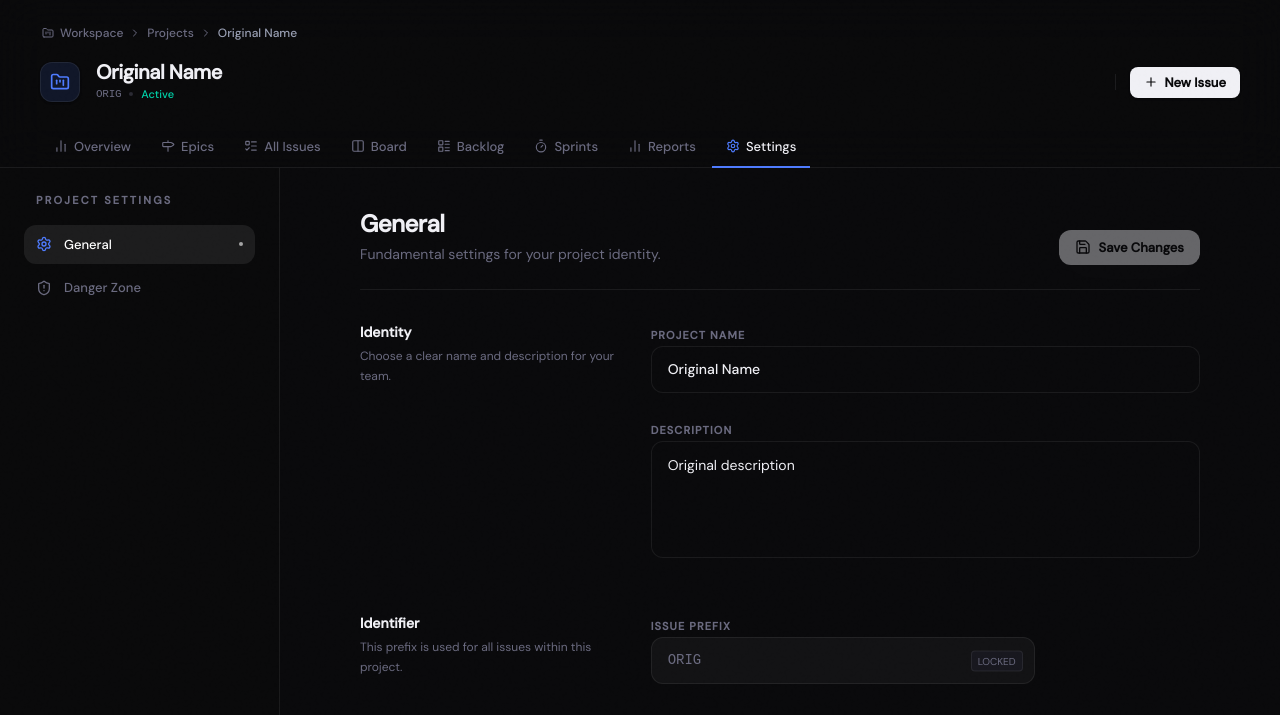
Scenario: ProjectSettingsPage general save (AUD-010 regression) › saves edited name and description via the API when Save Changes is clicked
Replace the text in the field labelled "Project Name" with "Renamed Project" at (925, 370), box [651,346,1200,393]
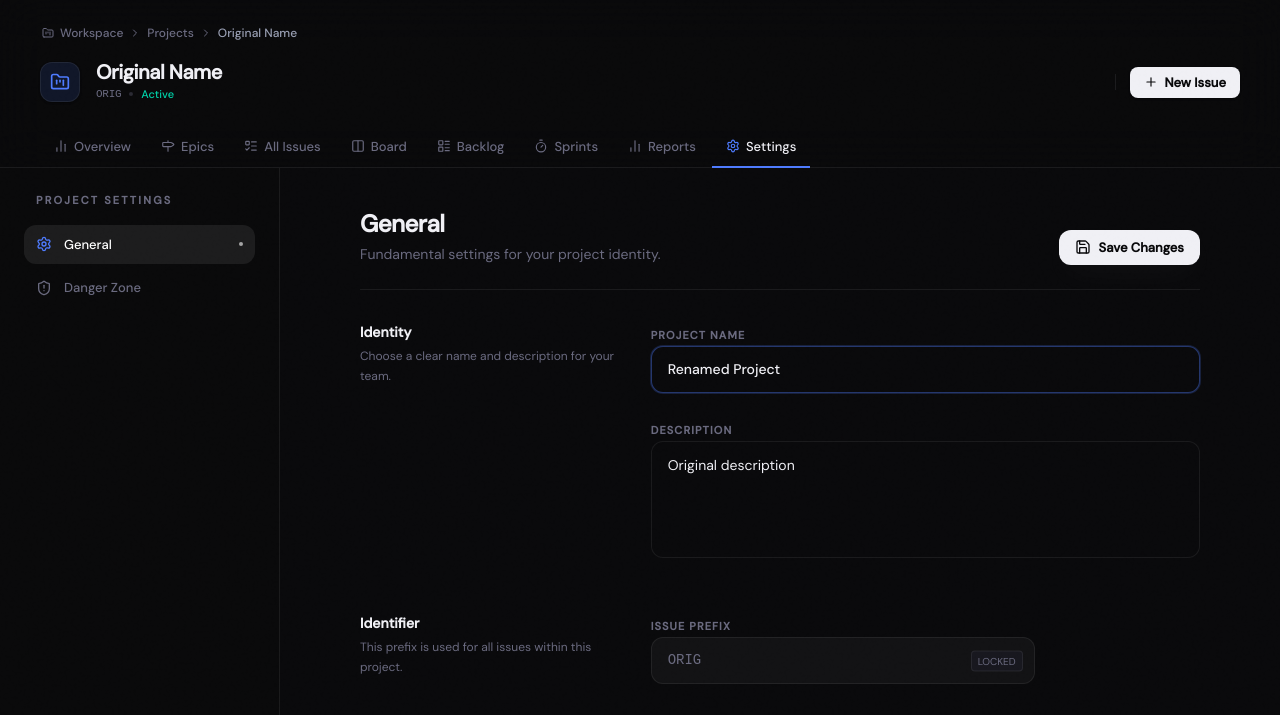
Replace the text in the text box labelled "Description" with "New description" at (925, 500), box [651,441,1200,558]
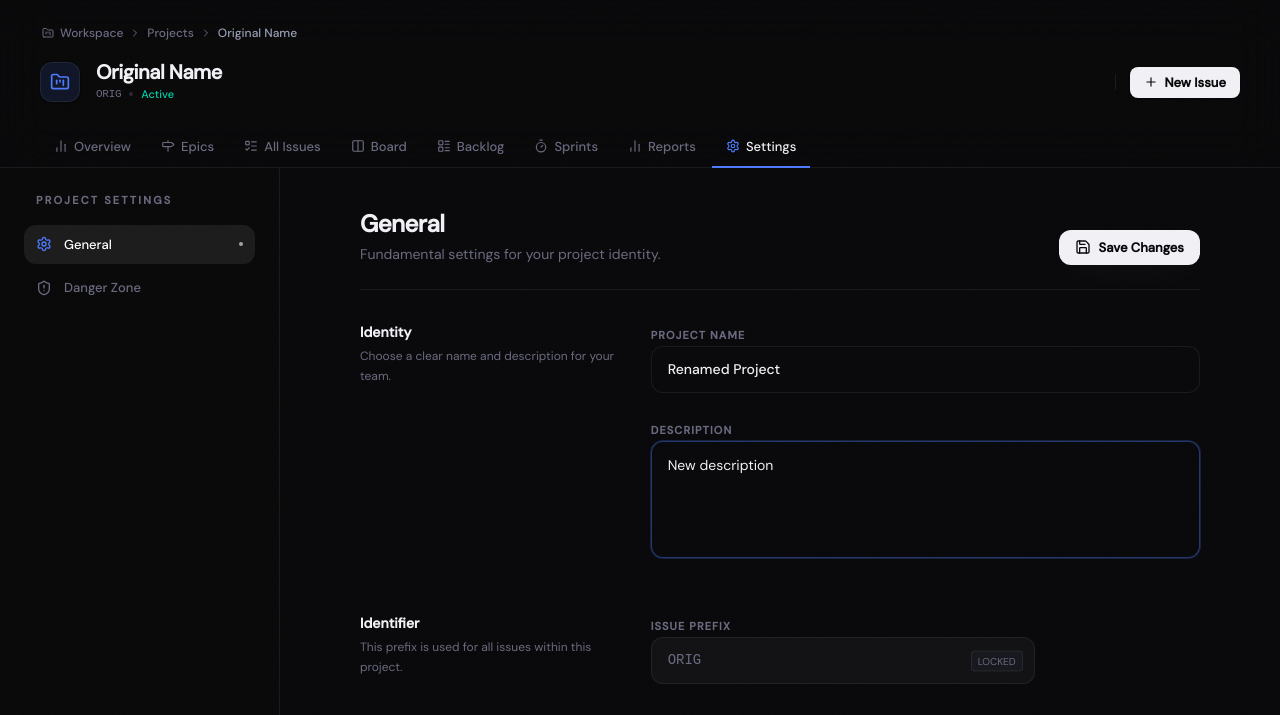
Expected: the button "Save Changes" is enabled
Click the button "Save Changes" at (1129, 247), box [1059,230,1200,265]
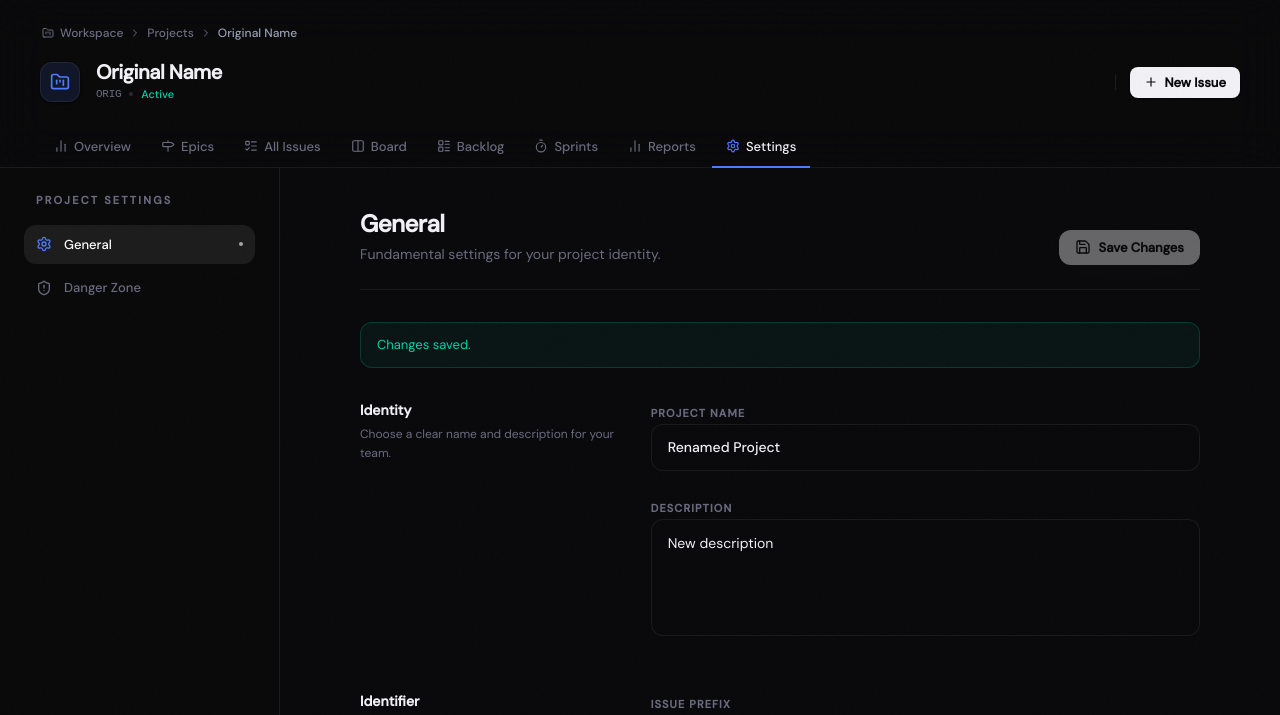
Expected: the text "Changes saved." is shown, [360,322,1200,368]
